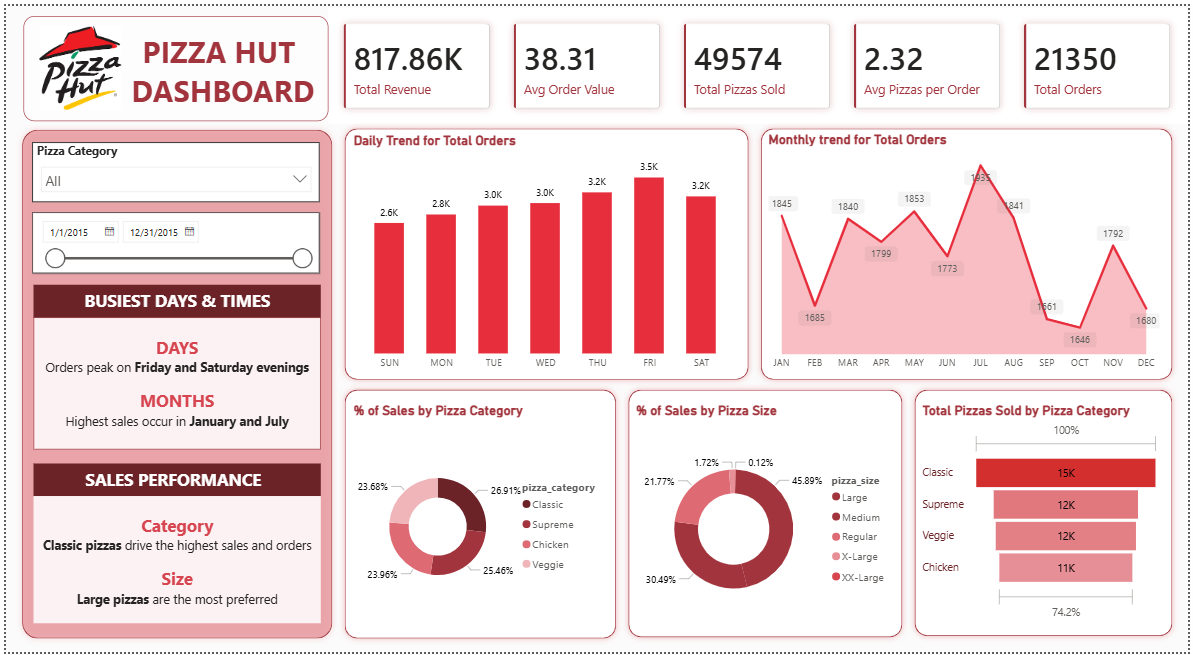

The dashboard page shown, as its layout file describes it:
{"tool":"powerbi","page":{"name":"Page 1","canvas":[1500,820],"ordinal":0},"visuals":[{"type":"shape","box":[12.7,149.2,409.5,661.9],"z":0},{"type":"cardVisual","fields":{"Data":["pizza_sales.Total Revenue","pizza_sales.Average Order Value","pizza_sales.Total Pizzas Sold","pizza_sales.Avg Pizzas per Order","pizza_sales.Total Order"]},"box":[409.5,3.2,1090.5,146],"z":1000},{"type":"textbox","box":[22.2,12.7,387.3,133.3],"z":2000},{"type":"shape","box":[422.2,147.6,528.6,334.9],"z":3000},{"type":"columnChart","title":"Daily Trend for Total Orders","fields":{"Category":["pizza_sales.Order Day"],"Y":["pizza_sales.Total Orders"]},"box":[436.5,160.3,498.4,311.1],"z":4000},{"type":"shape","box":[950.8,147.6,538.1,334.9],"z":5000},{"type":"areaChart","title":"Monthly trend for Total Orders","fields":{"Category":["pizza_sales.Order Month"],"Y":["pizza_sales.Total Orders"]},"box":[968.3,158.7,501.6,312.7],"z":6000},{"type":"shape","box":[422.2,479.4,360.3,331.7],"z":7000},{"type":"shape","box":[782.5,479.4,363.5,330.2],"z":8000},{"type":"shape","box":[1146,479.4,342.9,328.6],"z":9000},{"type":"donutChart","title":"% of Sales by Pizza Category","fields":{"Category":["pizza_sales.pizza_category"],"Y":["pizza_sales.Total Revenue"]},"box":[436.5,503.2,331.7,296.8],"z":10000},{"type":"donutChart","title":"% of Sales by Pizza Size","fields":{"Category":["pizza_sales.pizza_size"],"Y":["pizza_sales.Total Revenue"]},"box":[795.2,503.2,338.1,303.2],"z":11000},{"type":"funnel","title":"Total Pizzas Sold by Pizza Category","fields":{"Y":["pizza_sales.Total Pizzas Sold"],"Category":["pizza_sales.pizza_category"]},"box":[1158.7,503.2,311.1,281],"z":12000},{"type":"textbox","box":[34.9,395.2,365.1,168.3],"z":13000},{"type":"textbox","box":[34.9,354,365.1,41.3],"z":14000},{"type":"textbox","box":[34.9,581,365.1,41.3],"z":15000},{"type":"textbox","box":[34.9,622.2,365.1,161.9],"z":16000},{"type":"slicer","title":"Pizza Category","fields":{"Values":["pizza_sales.pizza_category"]},"box":[33.3,173,365.1,76.2],"z":17000},{"type":"slicer","title":"Pizza Category","fields":{"Values":["pizza_sales.order_date"]},"box":[33.3,261.9,365.1,77.8],"z":18000},{"type":"image","box":[11.1,25.4,166.7,106.3],"z":19000}]}

Visuals, with their boxes in screenshot pixels (x1, y1, x2, y2), scaled from the page's 1500x820 canvas onto the 1193x655 screenshot:
shape: crop(10, 119, 336, 648)
cardVisual - pizza_sales.Total Revenue x pizza_sales.Average Order Value: crop(326, 3, 1192, 119)
textbox: crop(18, 10, 326, 117)
shape: crop(336, 118, 756, 385)
"Daily Trend for Total Orders" columnChart: crop(347, 128, 744, 377)
shape: crop(756, 118, 1184, 385)
"Monthly trend for Total Orders" areaChart: crop(770, 127, 1169, 377)
shape: crop(336, 383, 622, 648)
shape: crop(622, 383, 911, 647)
shape: crop(911, 383, 1184, 645)
"% of Sales by Pizza Category" donutChart: crop(347, 402, 611, 639)
"% of Sales by Pizza Size" donutChart: crop(632, 402, 901, 644)
"Total Pizzas Sold by Pizza Category" funnel: crop(922, 402, 1169, 626)
textbox: crop(28, 316, 318, 450)
textbox: crop(28, 283, 318, 316)
textbox: crop(28, 464, 318, 497)
textbox: crop(28, 497, 318, 626)
"Pizza Category" slicer: crop(26, 138, 317, 199)
"Pizza Category" slicer: crop(26, 209, 317, 271)
image: crop(9, 20, 141, 105)
